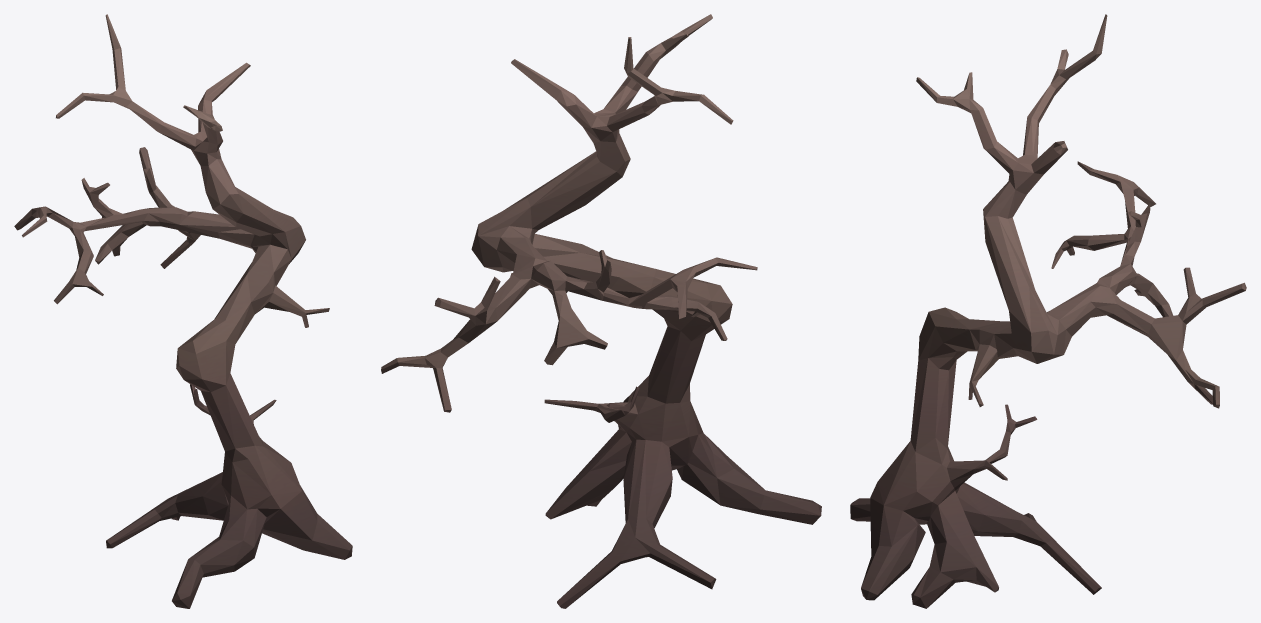
The model's file is tree8.glb.
3 views of the same model, side by side, from view 1: azimuth 30°, elevation 25°; view 2: azimuth 150°, elevation 25°; view 3: azimuth 270°, elevation 25° (orthographic). The views are drawn at different scales.
Visible parts, largest first — view 1: tree8; view 2: tree8; view 3: tree8.
Boxes of the visible parts, x1=… form: tree8: x1=14, y1=14, x2=352, y2=608; tree8: x1=381, y1=14, x2=821, y2=608; tree8: x1=850, y1=14, x2=1246, y2=608.
Size of the model in its own units: 1.87 by 3.53 by 2.32.
1 material, 1 textured.
